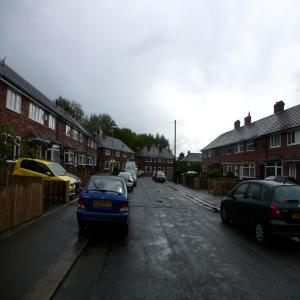Vehicle-registration-plate: (95, 200, 113, 207), (293, 211, 300, 219)
